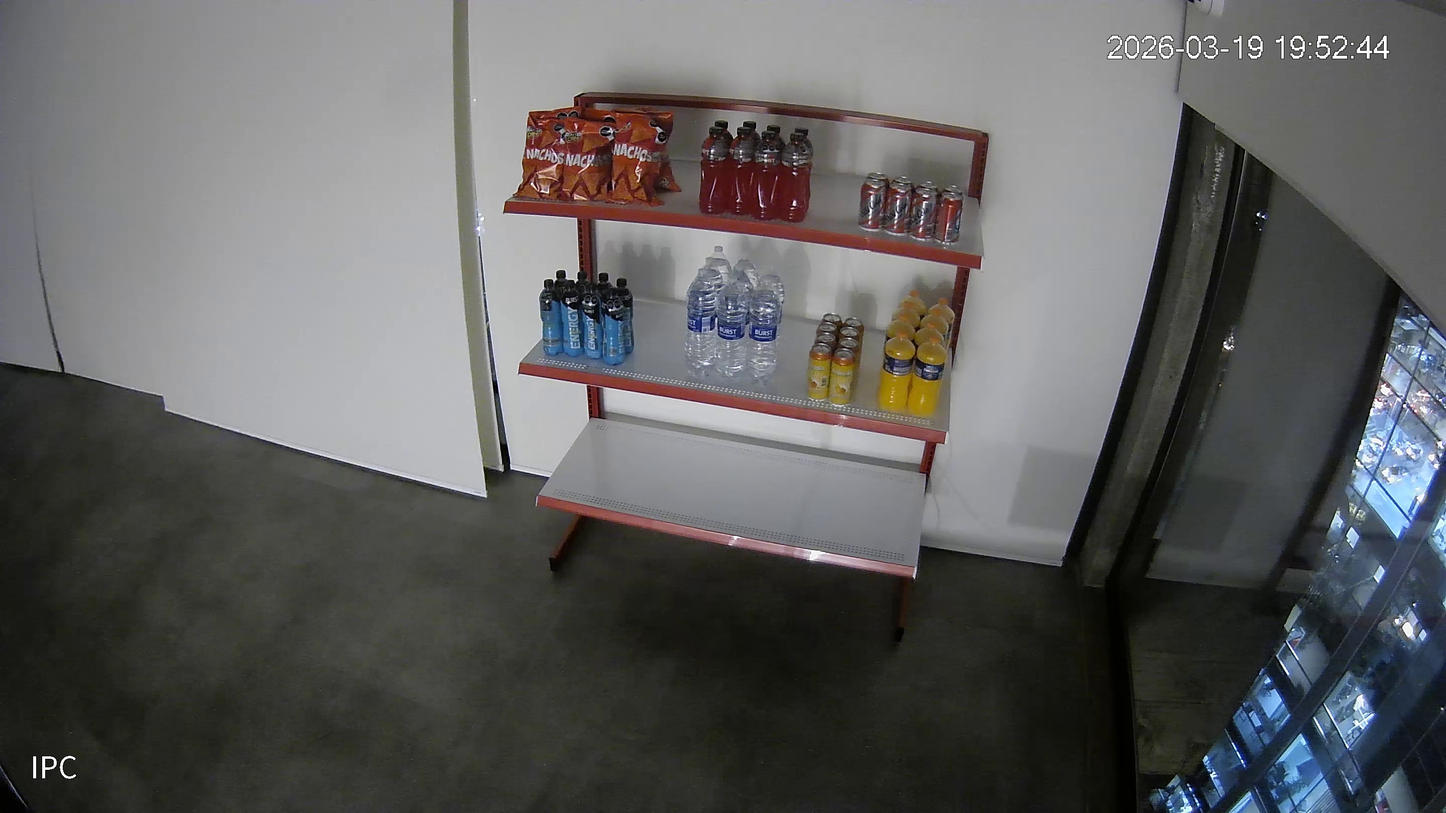agua_burst: (684, 268, 716, 377), (761, 264, 783, 348), (733, 254, 758, 287)
burst_energetica_roja: (779, 134, 810, 223), (698, 127, 728, 213), (765, 125, 783, 150)
burst_energy: (603, 289, 625, 365), (540, 278, 560, 355), (616, 279, 633, 355)
nachos_naturasol: (606, 110, 674, 204), (515, 118, 574, 199), (635, 110, 681, 193)
nebraska_mango: (827, 349, 854, 405), (806, 343, 830, 401), (838, 339, 857, 396)
sisi_cola: (933, 192, 962, 245), (858, 179, 885, 232), (920, 181, 936, 198)
sun_paradise_naranja: (875, 332, 915, 413), (909, 336, 945, 417), (884, 313, 914, 341)
